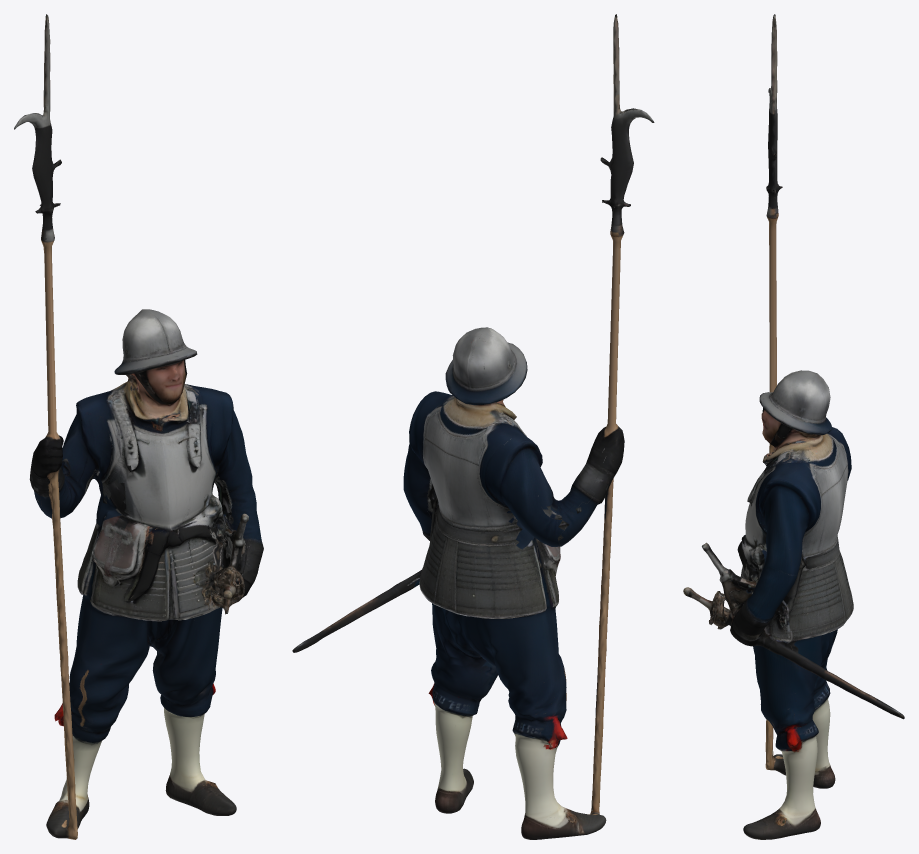
File: PIKEMAN_Swe_F_Ret.glb
3 views of the same model, side by side, from view 1: azimuth 30°, elevation 25°; view 2: azimuth 150°, elevation 25°; view 3: azimuth 270°, elevation 25° (orthographic). The views are drawn at different scales.
Visible parts, largest first — view 1: Mesh0; view 2: Mesh0; view 3: Mesh0.
Part boxes in pixels (x1,y1,x2,y2): Mesh0: (14, 14, 263, 839); Mesh0: (292, 14, 654, 839); Mesh0: (683, 14, 904, 839).
Size of the model in its own units: 0.9281 by 2.52 by 0.6766.
Materials: 1 (1 with a texture image).
